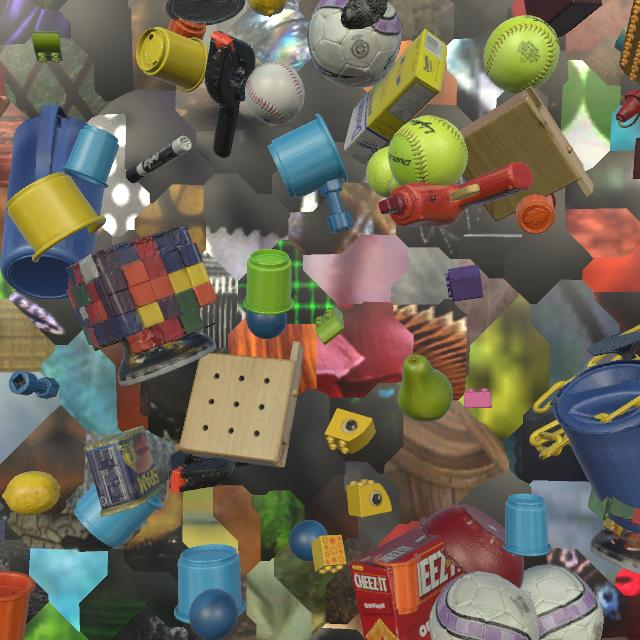ycb_002_master_chef_can: (165, 0, 245, 26)
ycb_003_cracker_box: (349, 525, 465, 640)
ycb_004_sugar_box: (344, 29, 447, 164)
ycb_010_potted_meat_can: (84, 426, 164, 516)
ycb_014_lemon: (2, 471, 61, 516), (247, 0, 287, 17)
ycb_016_pear: (397, 354, 453, 422)
